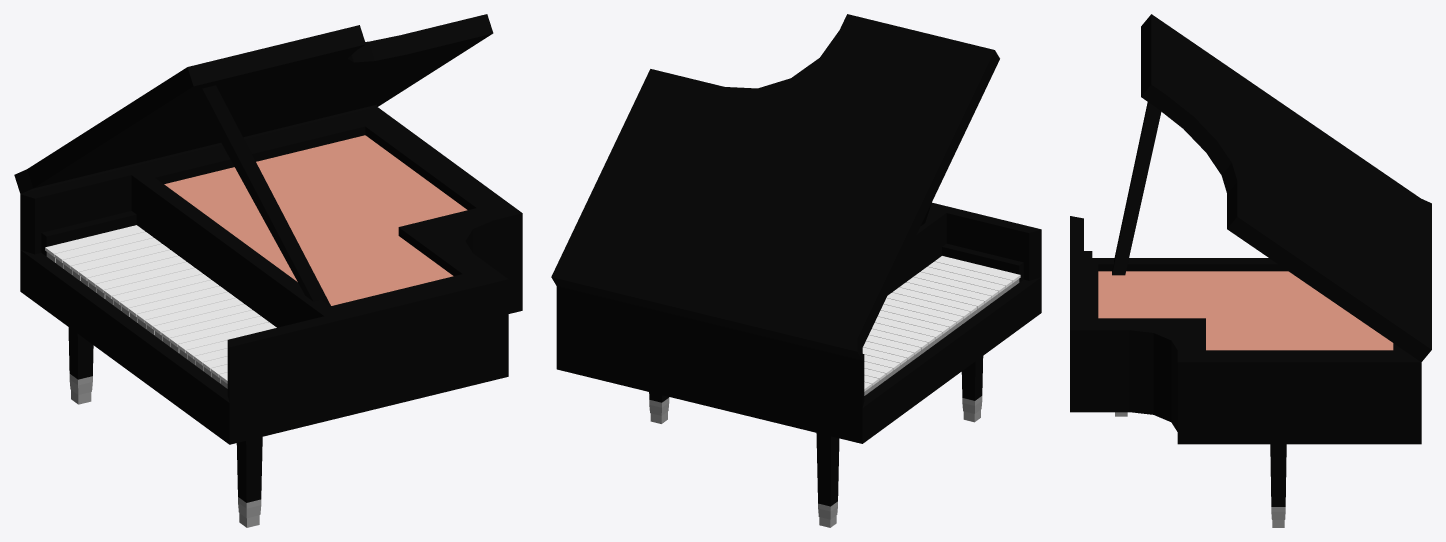
Rendered from Piano.fbx.
3 renders of one model, left to right at view 1: azimuth 30°, elevation 25°; view 2: azimuth 150°, elevation 25°; view 3: azimuth 270°, elevation 25°, orthographic. The views are drawn at different scales.
Parts seen in each view (by area): view 1: Piano_Legs; view 2: Piano_Legs; view 3: Piano_Legs.
Boxes of the visible parts, bbox=[...] form: Piano_Legs: bbox=[14, 14, 522, 527]; Piano_Legs: bbox=[551, 14, 1041, 527]; Piano_Legs: bbox=[1070, 14, 1431, 527].
Bounding box in the file's own units: 2.41 × 2.51 × 2.93.
